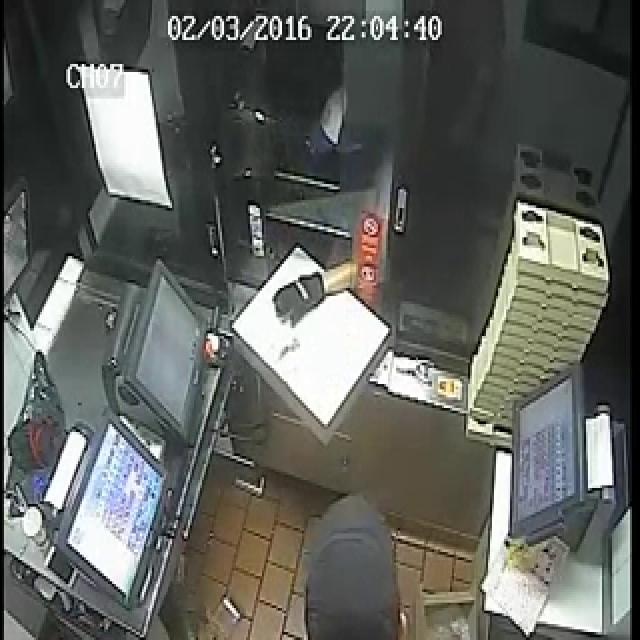burglary: (196, 34, 405, 545)
